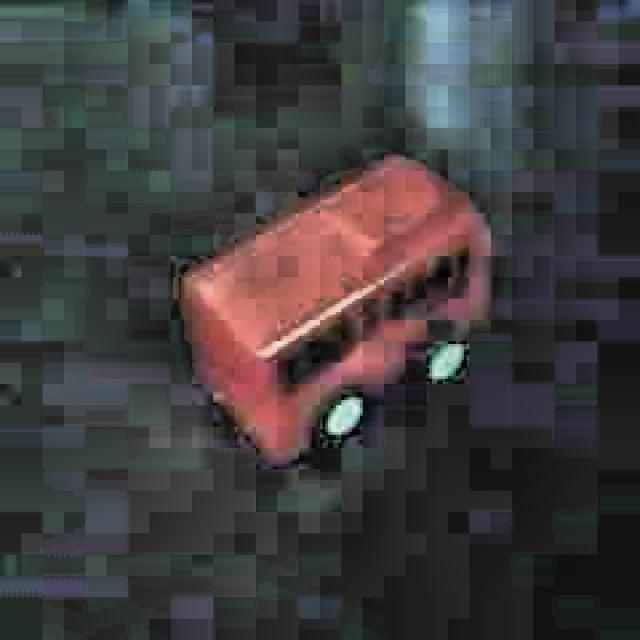bus: (165, 145, 502, 480)
